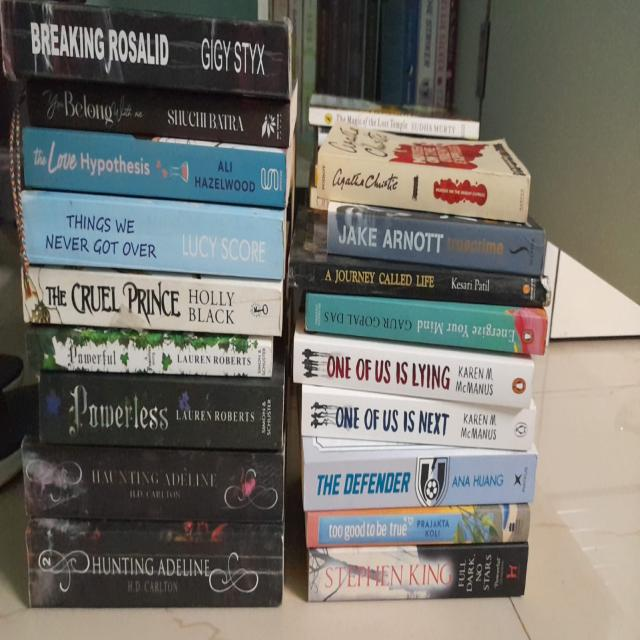book: (0, 0, 289, 97), (39, 355, 284, 451), (22, 192, 284, 281), (25, 518, 283, 607), (22, 127, 292, 211), (22, 438, 284, 522), (317, 125, 530, 222), (26, 80, 297, 148), (22, 266, 285, 336), (302, 436, 537, 511), (303, 379, 534, 453), (327, 201, 544, 275), (306, 292, 546, 354), (308, 542, 528, 602), (25, 326, 274, 378), (305, 503, 530, 548)
